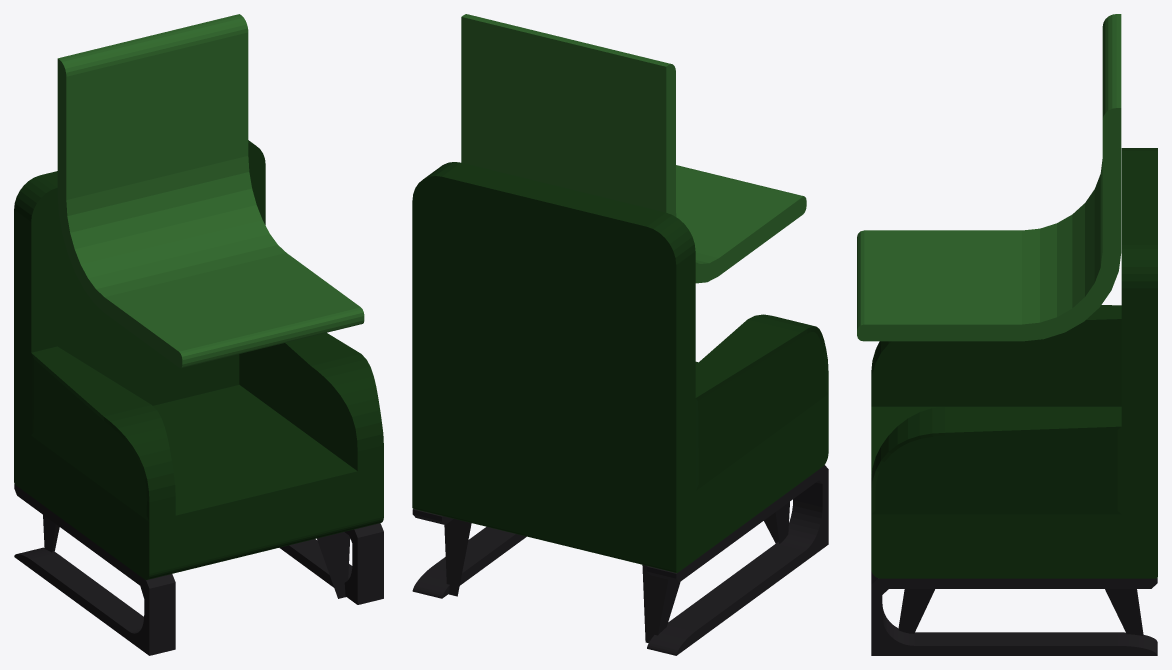
File: chair.gltf
The picture shows the model from 3 angles, left to right: view 1: azimuth 30°, elevation 25°; view 2: azimuth 150°, elevation 25°; view 3: azimuth 270°, elevation 25°; orthographic projection. The views are drawn at different scales.
Visible parts, largest first — view 1: Chair, Cushion, Legs1, Legs2; view 2: Chair, Cushion, Legs1, Legs2; view 3: Chair, Cushion, Legs1, Legs2.
Boxes of the visible parts, x1,y1,x2,y2 form: Chair: (14, 140, 383, 579); Cushion: (57, 14, 364, 368); Legs1: (14, 484, 383, 655); Legs2: (43, 515, 350, 598); Chair: (412, 162, 828, 572); Cushion: (461, 14, 806, 283); Legs1: (412, 465, 828, 655); Legs2: (444, 502, 789, 642); Chair: (871, 148, 1157, 578); Cushion: (857, 14, 1121, 341); Legs1: (871, 571, 1157, 655); Legs2: (898, 589, 1143, 635).
Bounding box in the file's own units: 2.2 × 4.12 × 2.1.
